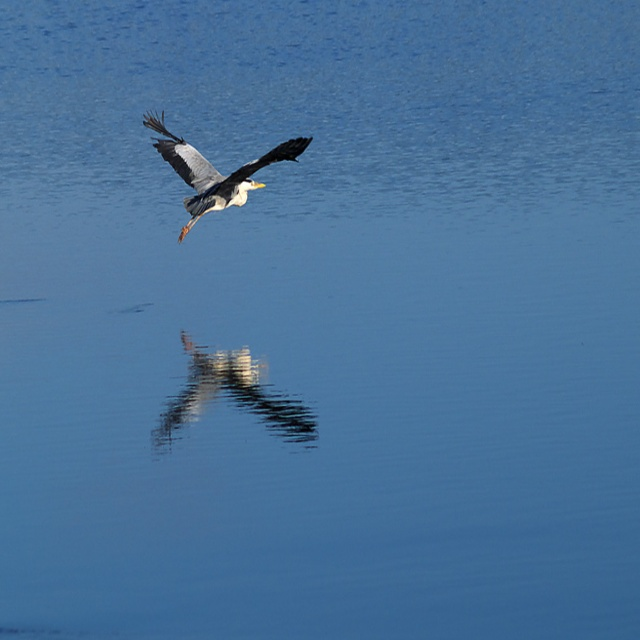Eagle: (143, 105, 321, 244)
